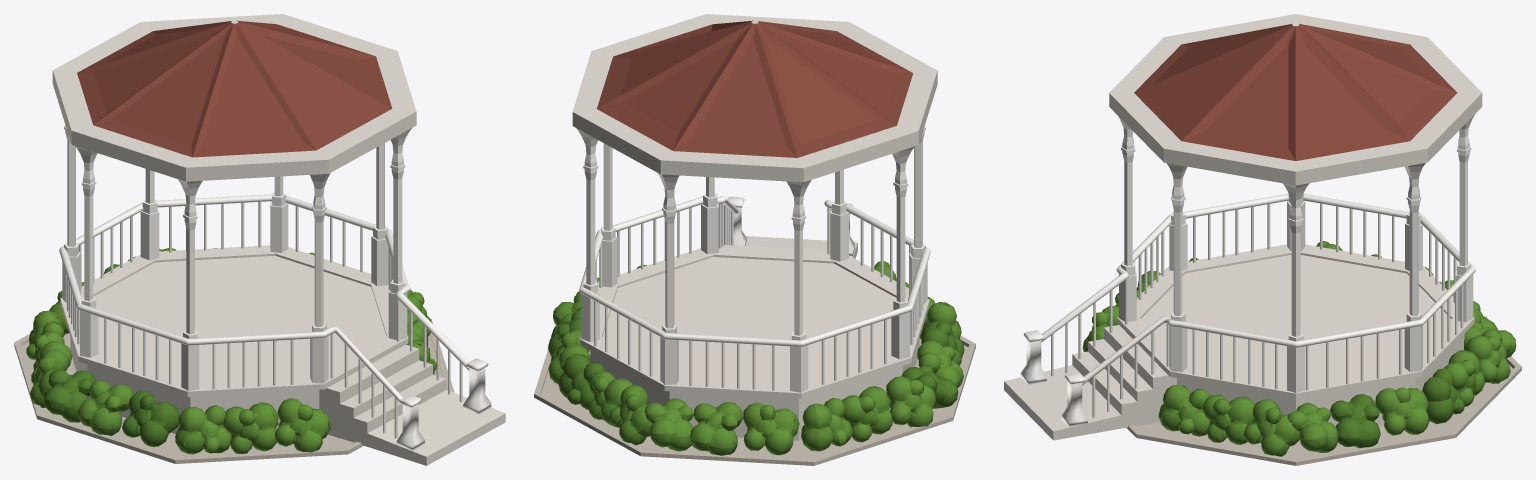
Rendered from Kiosko.glb.
3 views of the same model, side by side, from view 1: azimuth 30°, elevation 25°; view 2: azimuth 150°, elevation 25°; view 3: azimuth 270°, elevation 25° (orthographic).
Parts seen in each view (by area): view 1: Círculo, Círculo.002, Círculo.001, Círculo.004, Cilindro, Esfera.020, Esfera.021, Esfera.019, Esfera.018, Esfera.015, Esfera.013, Esfera.014 (+6 smaller); view 2: Círculo, Círculo.002, Círculo.004, Cilindro, Círculo.001, Esfera.007, Esfera.010, Esfera.017, Esfera.016, Esfera.014, Esfera.012, Esfera.011 (+11 smaller); view 3: Círculo, Círculo.002, Círculo.001, Cilindro, Círculo.004, Esfera.006, Esfera.003, Esfera.002, Esfera.005, Esfera.004, Esfera.001, Esfera.008 (+8 smaller).
Boxes of the visible parts, bbox=[...] form: Círculo: bbox=[52, 14, 505, 465]; Círculo.002: bbox=[62, 125, 411, 390]; Círculo.001: bbox=[59, 194, 469, 405]; Círculo.004: bbox=[14, 319, 454, 463]; Cilindro: bbox=[67, 201, 393, 389]; Esfera.020: bbox=[223, 402, 278, 453]; Esfera.021: bbox=[275, 398, 330, 452]; Esfera.019: bbox=[175, 405, 231, 454]; Esfera.018: bbox=[122, 391, 179, 446]; Esfera.015: bbox=[77, 380, 133, 435]; Esfera.013: bbox=[44, 369, 95, 422]; Esfera.014: bbox=[30, 349, 68, 407]; Círculo: bbox=[572, 14, 937, 440]; Círculo.002: bbox=[576, 126, 927, 392]; Círculo.004: bbox=[534, 325, 975, 465]; Cilindro: bbox=[594, 207, 923, 390]; Círculo.001: bbox=[579, 196, 930, 346]; Esfera.007: bbox=[743, 402, 799, 455]; Esfera.010: bbox=[689, 402, 742, 455]; Esfera.017: bbox=[801, 398, 852, 451]; Esfera.016: bbox=[842, 386, 892, 442]; Esfera.014: bbox=[886, 376, 936, 427]; Esfera.012: bbox=[644, 398, 693, 451]; Esfera.011: bbox=[609, 385, 652, 445]; Círculo: bbox=[1004, 14, 1482, 440]; Círculo.002: bbox=[1118, 114, 1475, 392]; Círculo.001: bbox=[1041, 193, 1475, 385]; Cilindro: bbox=[1133, 203, 1463, 390]; Círculo.004: bbox=[1126, 356, 1521, 465]; Esfera.006: bbox=[1375, 387, 1429, 435]; Esfera.003: bbox=[1330, 394, 1380, 448]; Esfera.002: bbox=[1244, 399, 1300, 456]; Esfera.005: bbox=[1158, 384, 1209, 436]; Esfera.004: bbox=[1203, 394, 1255, 444]; Esfera.001: bbox=[1287, 402, 1338, 452]; Esfera.008: bbox=[1422, 368, 1464, 424].
Bounding box in the file's own units: 8.2 × 6.98 × 9.4.
